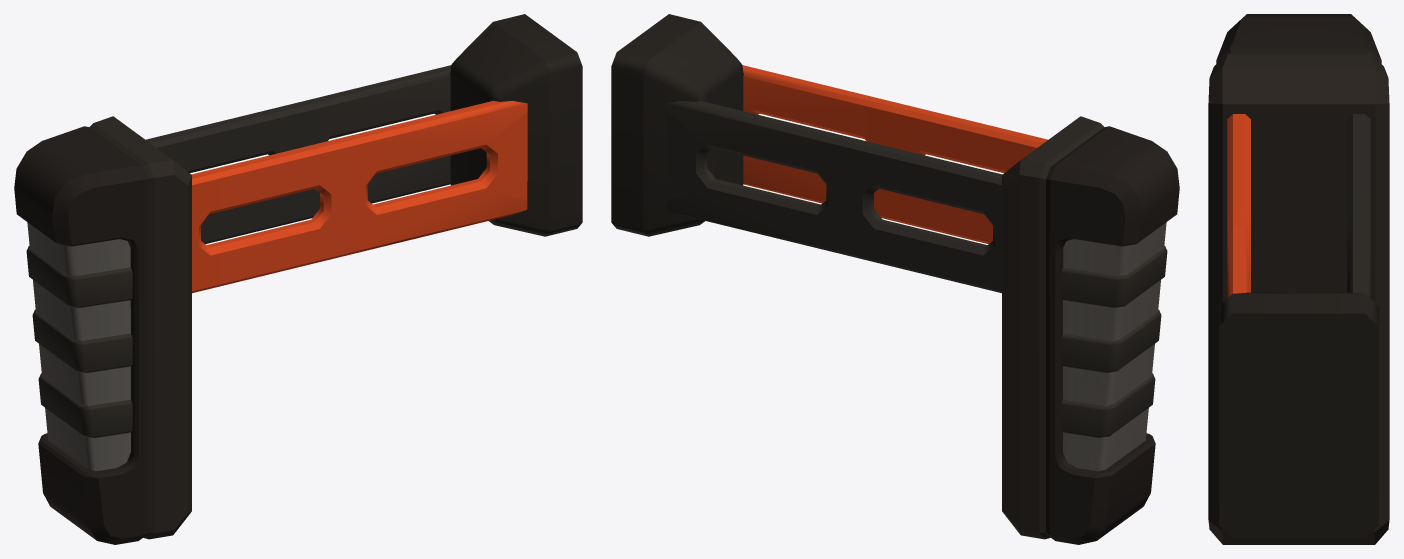
File: SMG7_ButtstockLight.fbx
3 renders of one model, left to right at view 1: azimuth 30°, elevation 25°; view 2: azimuth 150°, elevation 25°; view 3: azimuth 270°, elevation 25°, orthographic. The views are drawn at different scales.
Parts seen in each view (by area): view 1: SMG7_ButtstockLight; view 2: SMG7_ButtstockLight; view 3: SMG7_ButtstockLight.
Part boxes in pixels (<box>): SMG7_ButtstockLight: <box>14,14,582,544</box>; SMG7_ButtstockLight: <box>611,14,1179,544</box>; SMG7_ButtstockLight: <box>1208,14,1389,544</box>.
Size of the model in its own units: 13.44 by 9.44 by 3.2.
